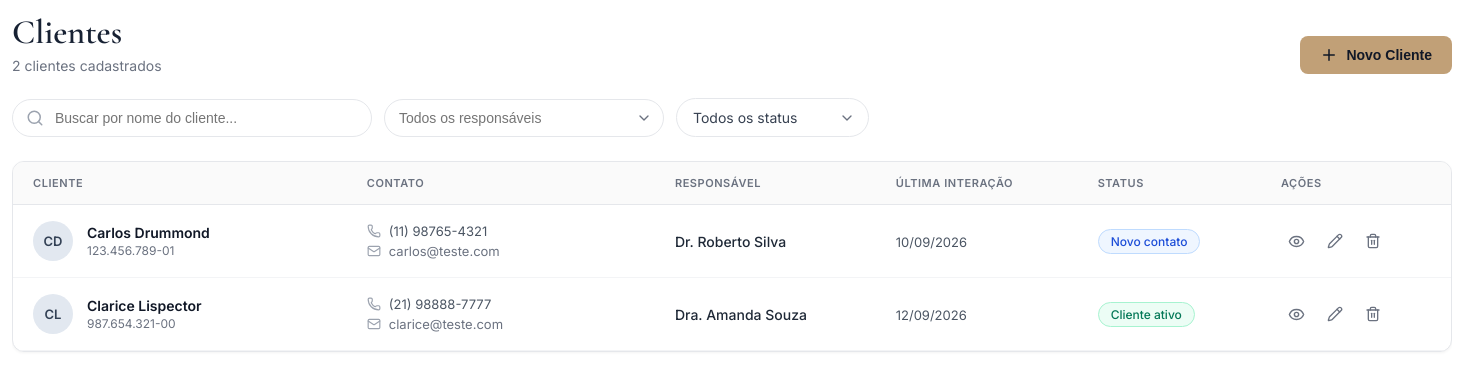
Test: ClientesClient › filtra clientes por status / etapa selecionado
Select "Cliente ativo" in the dropdown named "Filtrar por status": (772, 118) left=676, top=98, right=869, bottom=137
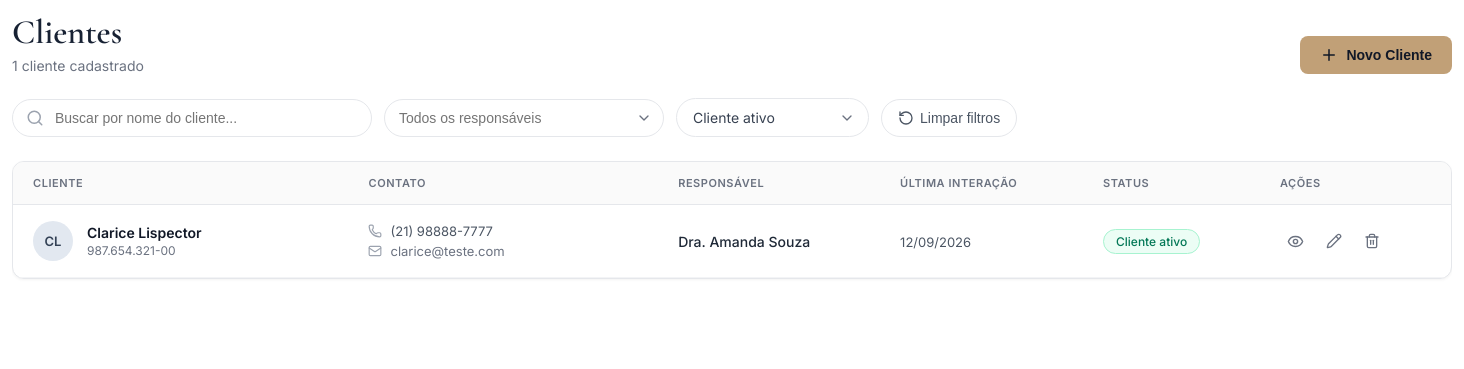
Expected: the text "Clarice Lispector" is shown, left=87, top=224, right=202, bottom=241
Now the text "Carlos Drummond" is gone
